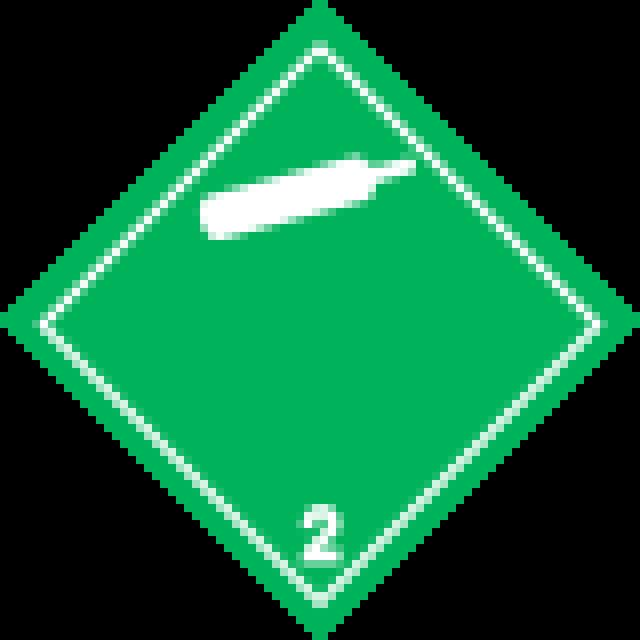Division 2-2: (8, 8, 640, 640)
